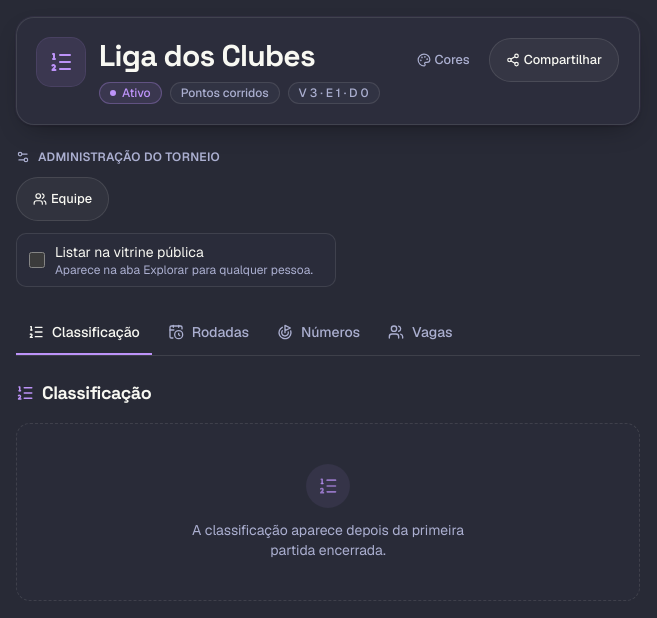
it: TorneioPage — liberação de rodadas (change add-liberacao-rodadas) › DONO de torneio gerado com rodada oculta vê a seção 'Liberação de rodadas'
This screenshot has width=657, height=618.
Step 1. Click the tab "Rodadas" → (208, 333), box [156,311,261,355]
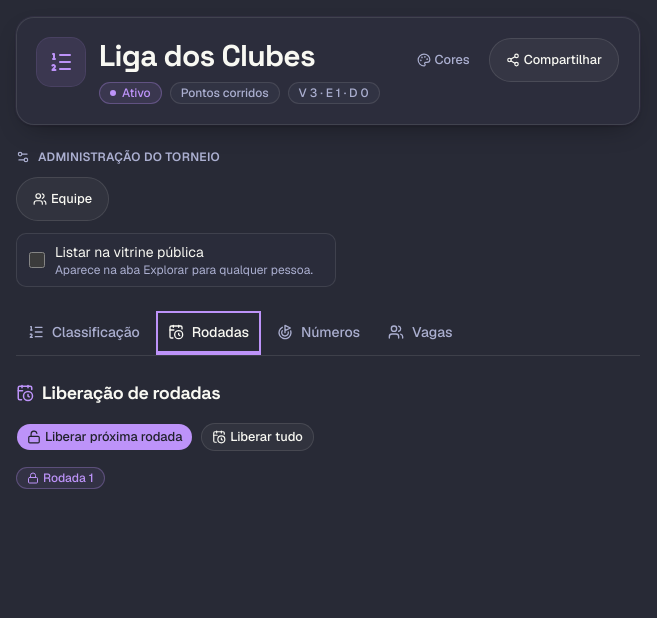
Expected: the heading "Liberação de rodadas" is shown, [16,379,220,407]
Expected: the button "Liberar próxima rodada" is shown, [16,423,193,451]
